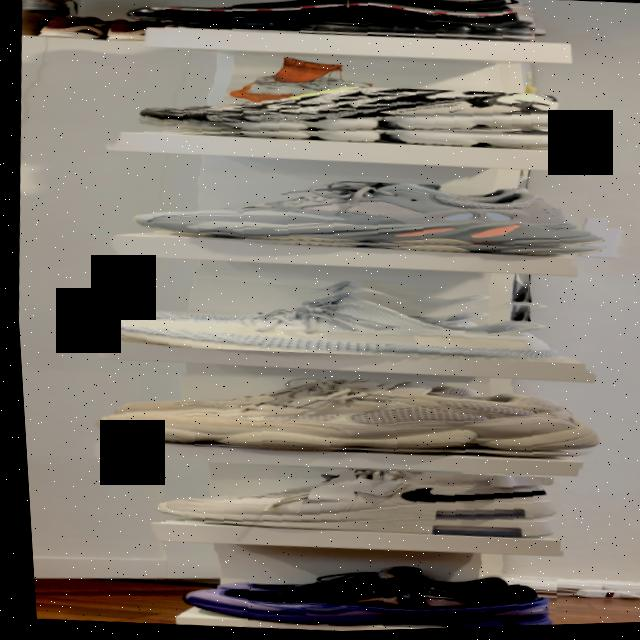shoe: (79, 356, 598, 478), (87, 257, 600, 379), (121, 162, 607, 274), (131, 68, 574, 166), (143, 452, 556, 553), (169, 553, 551, 637), (127, 0, 536, 57)
